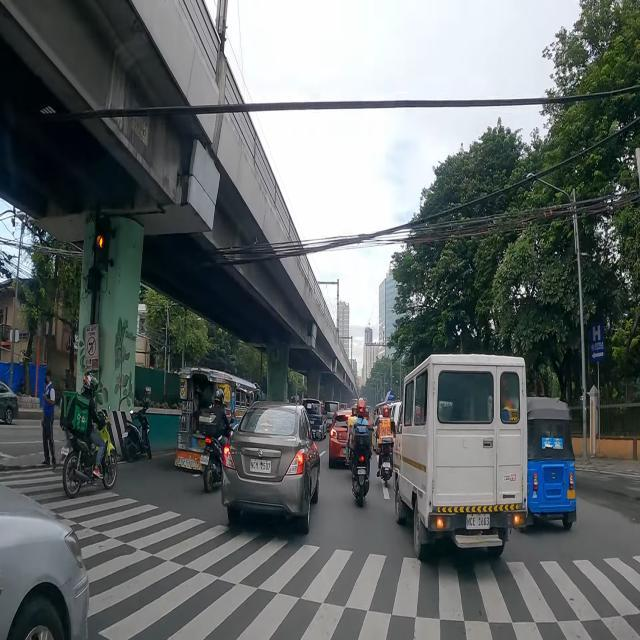car: (221, 402, 320, 534), (328, 410, 352, 467), (302, 398, 328, 441)
jeepney: (175, 368, 258, 470), (374, 400, 401, 418)
motorcycle: (60, 372, 116, 498), (199, 389, 232, 492), (348, 398, 372, 506), (122, 387, 152, 462), (376, 404, 396, 487), (344, 406, 358, 464)
tricycle: (528, 398, 576, 528)
